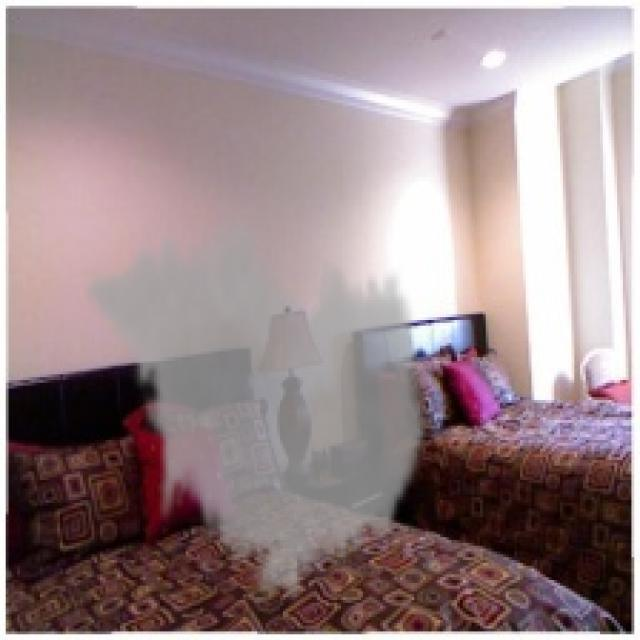Smoke: (82, 206, 432, 608)
